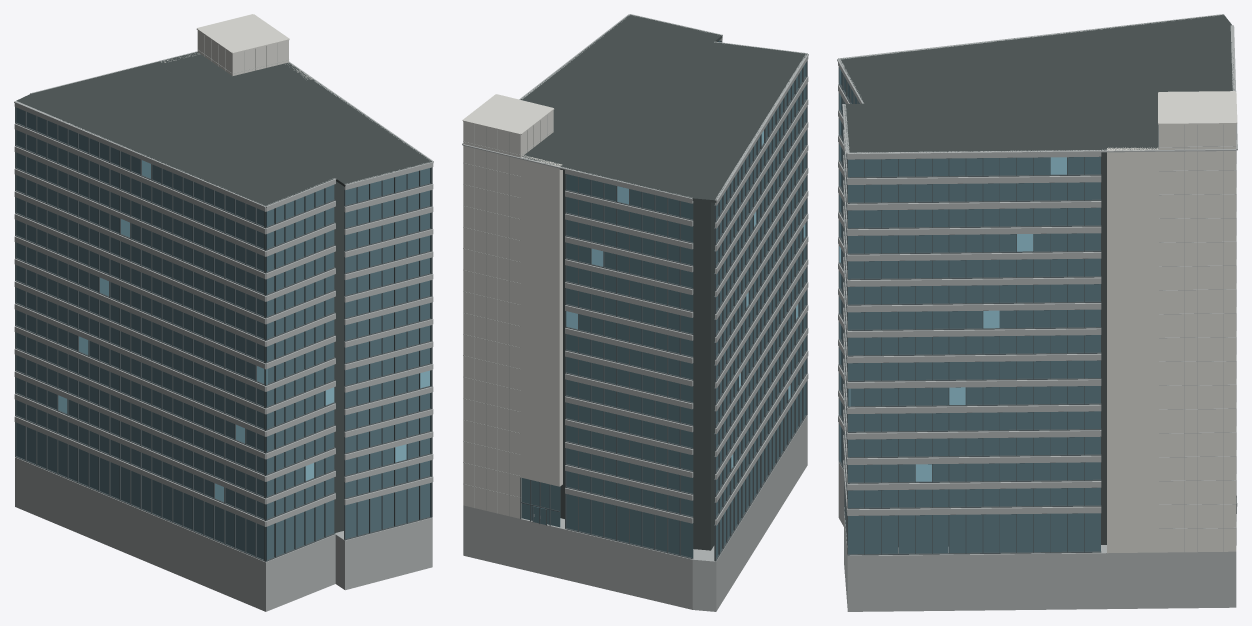
The model's file is wacker_250.glb.
The picture shows the model from 3 angles, left to right: view 1: azimuth 30°, elevation 25°; view 2: azimuth 150°, elevation 25°; view 3: azimuth 270°, elevation 25°; orthographic projection. The views are drawn at different scales.
Parts seen in each view (by area): view 1: Wacker250 recessed blue green glazing, Wacker250 silver metal floor spandrels, Wacker250 dark roof and interior, Wacker250 thin dark curtainwall frames, Wacker250 opaque white glazed feature panels, Night occupied Wacker250 glazing; view 2: Wacker250 recessed blue green glazing, Wacker250 silver metal floor spandrels, Wacker250 dark roof and interior, Wacker250 opaque white glazed feature panels, Wacker250 thin dark curtainwall frames, Wacker250 pale grey feature panel joints, Night occupied Wacker250 glazing; view 3: Wacker250 recessed blue green glazing, Wacker250 opaque white glazed feature panels, Wacker250 silver metal floor spandrels, Wacker250 dark roof and interior, Wacker250 thin dark curtainwall frames, Wacker250 pale grey feature panel joints, Night occupied Wacker250 glazing.
Part boxes in pixels (left/top/right/bottom): Wacker250 recessed blue green glazing: left=16, top=107, right=430, bottom=560; Wacker250 silver metal floor spandrels: left=14, top=51, right=433, bottom=611; Wacker250 dark roof and interior: left=16, top=52, right=431, bottom=532; Wacker250 thin dark curtainwall frames: left=15, top=107, right=432, bottom=561; Wacker250 opaque white glazed feature panels: left=161, top=14, right=312, bottom=79; Night occupied Wacker250 glazing: left=58, top=160, right=429, bottom=501; Wacker250 recessed blue green glazing: left=521, top=41, right=806, bottom=557; Wacker250 silver metal floor spandrels: left=462, top=14, right=808, bottom=611; Wacker250 dark roof and interior: left=520, top=14, right=806, bottom=550; Wacker250 opaque white glazed feature panels: left=462, top=94, right=562, bottom=518; Wacker250 thin dark curtainwall frames: left=520, top=40, right=807, bottom=561; Wacker250 pale grey feature panel joints: left=463, top=115, right=553, bottom=515; Night occupied Wacker250 glazing: left=566, top=130, right=805, bottom=468; Wacker250 recessed blue green glazing: left=839, top=68, right=1100, bottom=554; Wacker250 opaque white glazed feature panels: left=1107, top=91, right=1237, bottom=553; Wacker250 silver metal floor spandrels: left=837, top=14, right=1237, bottom=611; Wacker250 dark roof and interior: left=840, top=14, right=1234, bottom=546; Wacker250 thin dark curtainwall frames: left=838, top=67, right=1236, bottom=555; Wacker250 pale grey feature panel joints: left=1158, top=124, right=1236, bottom=551; Night occupied Wacker250 glazing: left=839, top=157, right=1066, bottom=481.
Bounding box in the file's own units: 42.9 × 69.3 × 51.9.
